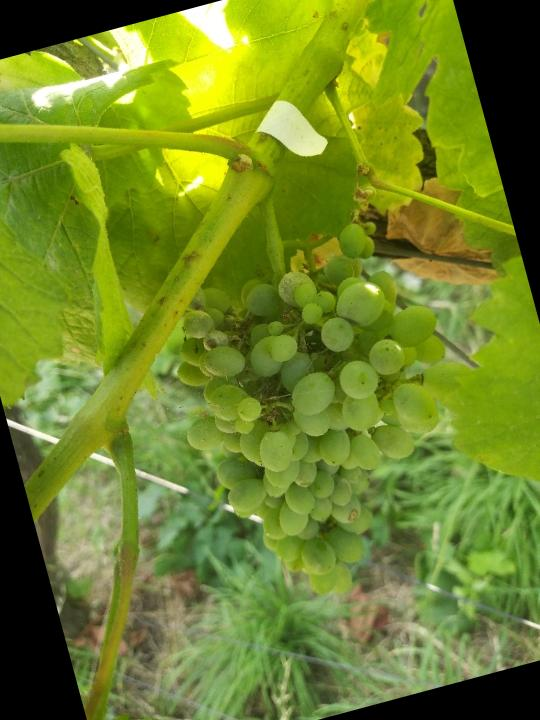grape: (137, 201, 521, 632)
